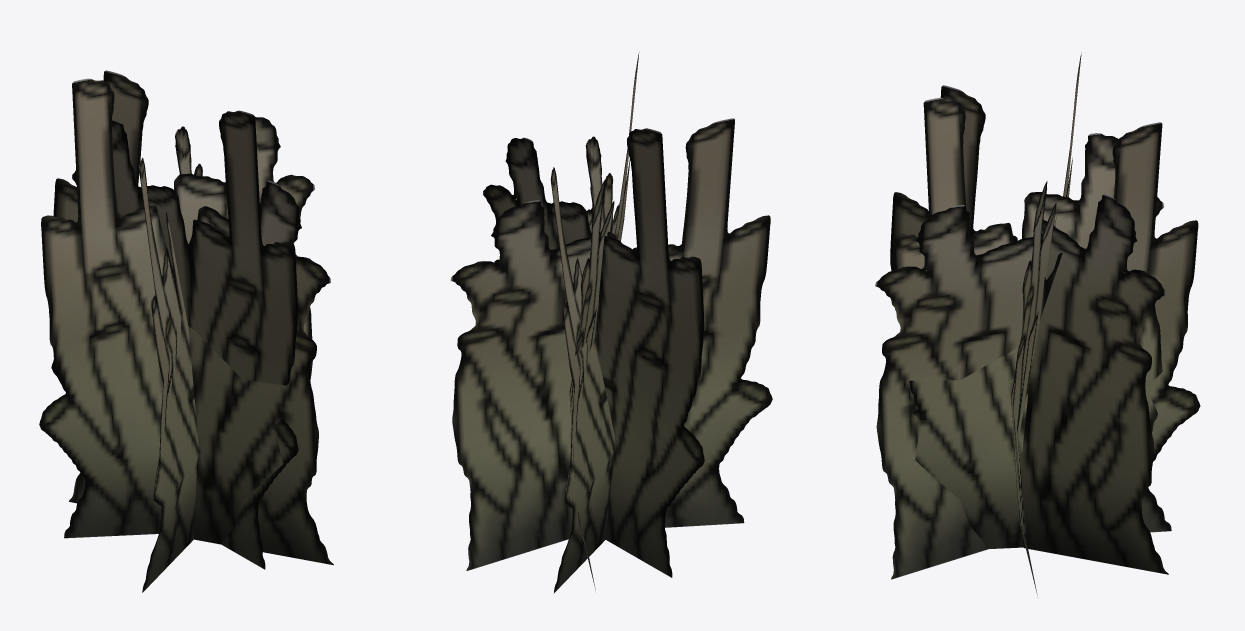
File: LeeteraleNoodles.fbx
The picture shows the model from 3 angles, left to right: view 1: azimuth 30°, elevation 25°; view 2: azimuth 150°, elevation 25°; view 3: azimuth 270°, elevation 25°; orthographic projection. The views are drawn at different scales.
Parts seen in each view (by area): view 1: LeeteraleNoodles; view 2: LeeteraleNoodles; view 3: LeeteraleNoodles.
Boxes of the visible parts, x1,y1,x2,y2 form: LeeteraleNoodles: (39, 70, 333, 592); LeeteraleNoodles: (450, 52, 772, 592); LeeteraleNoodles: (875, 52, 1200, 597).
Bounding box in the file's own units: 261 × 400 × 313.
1 material, 1 textured.
